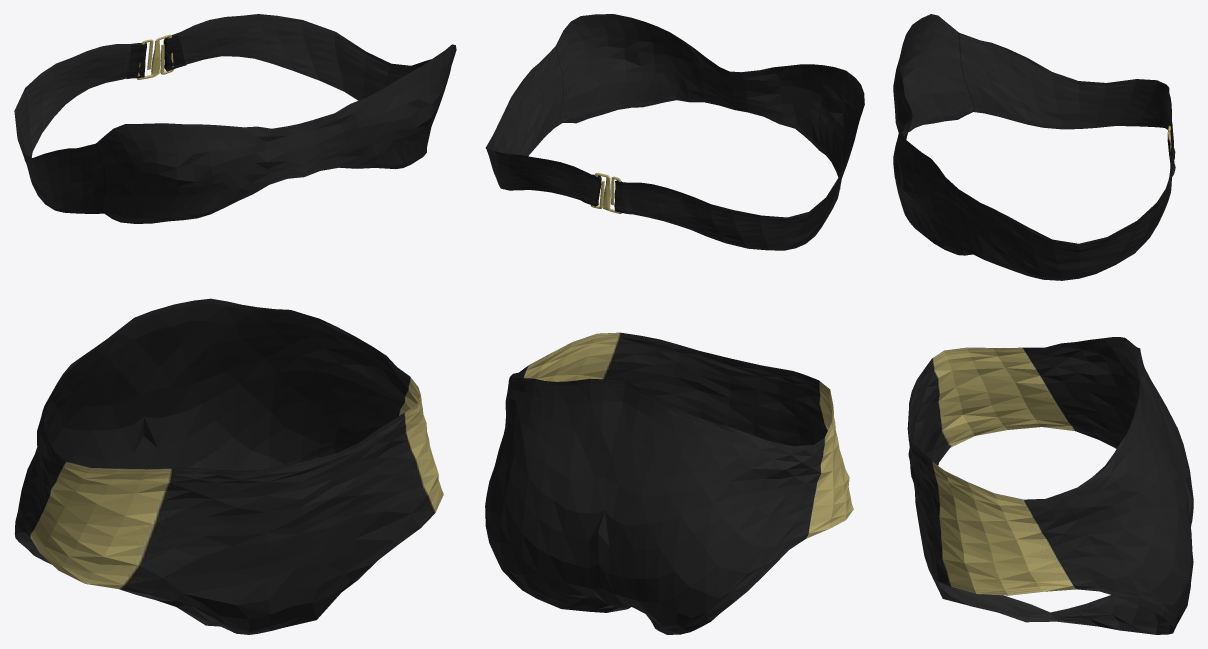
Rendered from mhw_mindfront_bikini_01.glb.
3 views of the same model, side by side, from view 1: azimuth 30°, elevation 25°; view 2: azimuth 150°, elevation 25°; view 3: azimuth 270°, elevation 25° (orthographic). The views are drawn at different scales.
Parts seen in each view (by area): view 1: mhw_mindfront_bikini_01; view 2: mhw_mindfront_bikini_01; view 3: mhw_mindfront_bikini_01.
Part boxes in pixels (x1,y1,x2,y2): mhw_mindfront_bikini_01: [14, 14, 456, 634]; mhw_mindfront_bikini_01: [485, 14, 864, 634]; mhw_mindfront_bikini_01: [893, 14, 1193, 634].
Bounding box in the file's own units: 0.3445 × 0.5107 × 0.259.
Materials: 1 (1 with a texture image).
